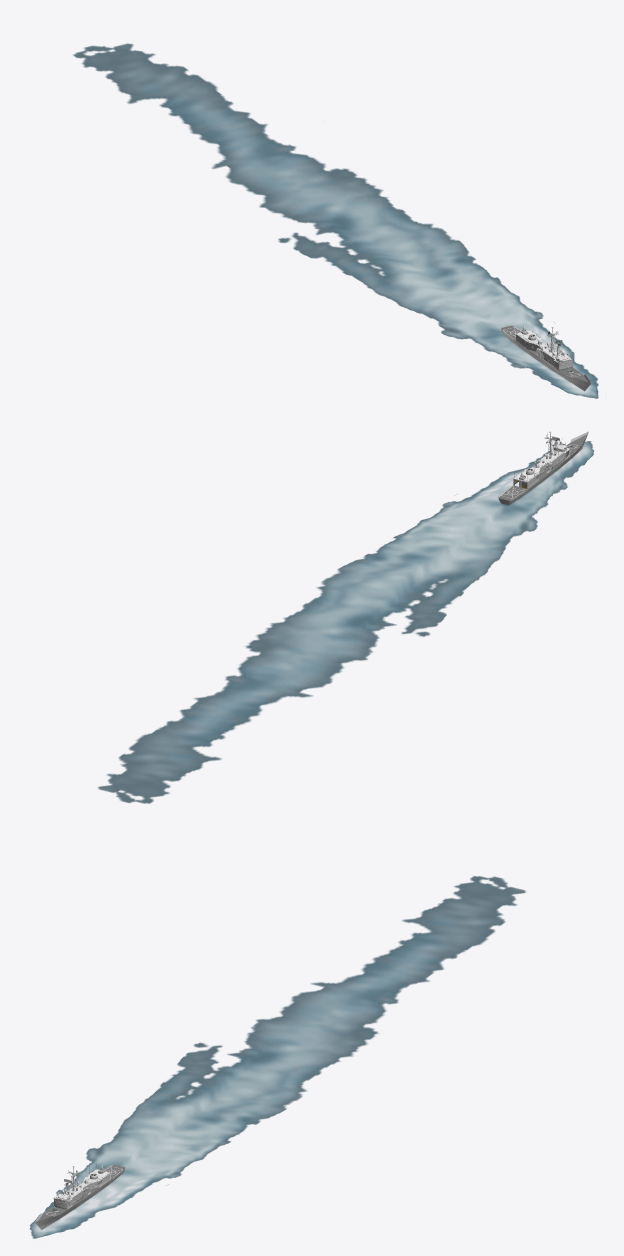
File: frigate_perry.glb
3 renders of one model, top to bottom at view 1: azimuth 30°, elevation 25°; view 2: azimuth 150°, elevation 25°; view 3: azimuth 330°, elevation 25°, orthographic.
Visible parts, largest first — view 1: railing; view 2: railing; view 3: railing.
Part boxes in pixels (x1,y1,x2,y2): railing: [73, 43, 598, 398]; railing: [98, 431, 594, 803]; railing: [29, 876, 525, 1238].
Size of the model in its own units: 25.74 by 6.1 by 136.
24 materials, 5 textured.
